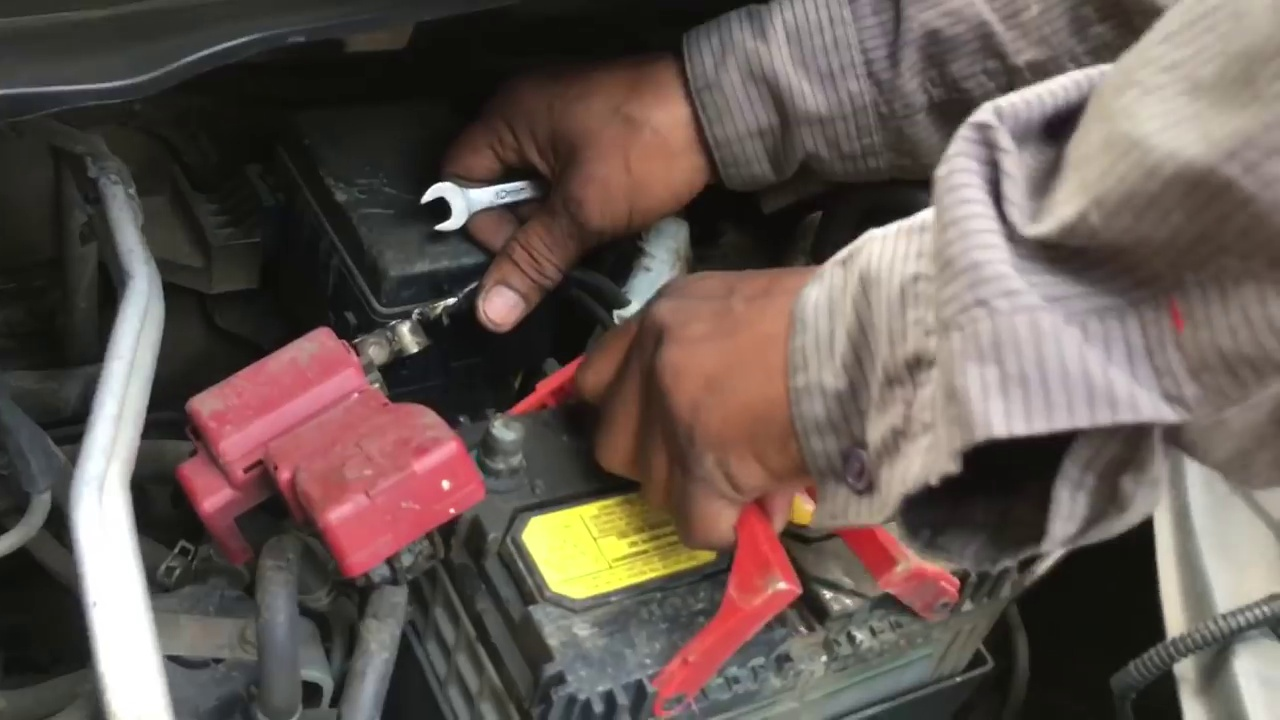battery: (440, 401, 991, 700)
pos_disconnected: (317, 358, 548, 523)
